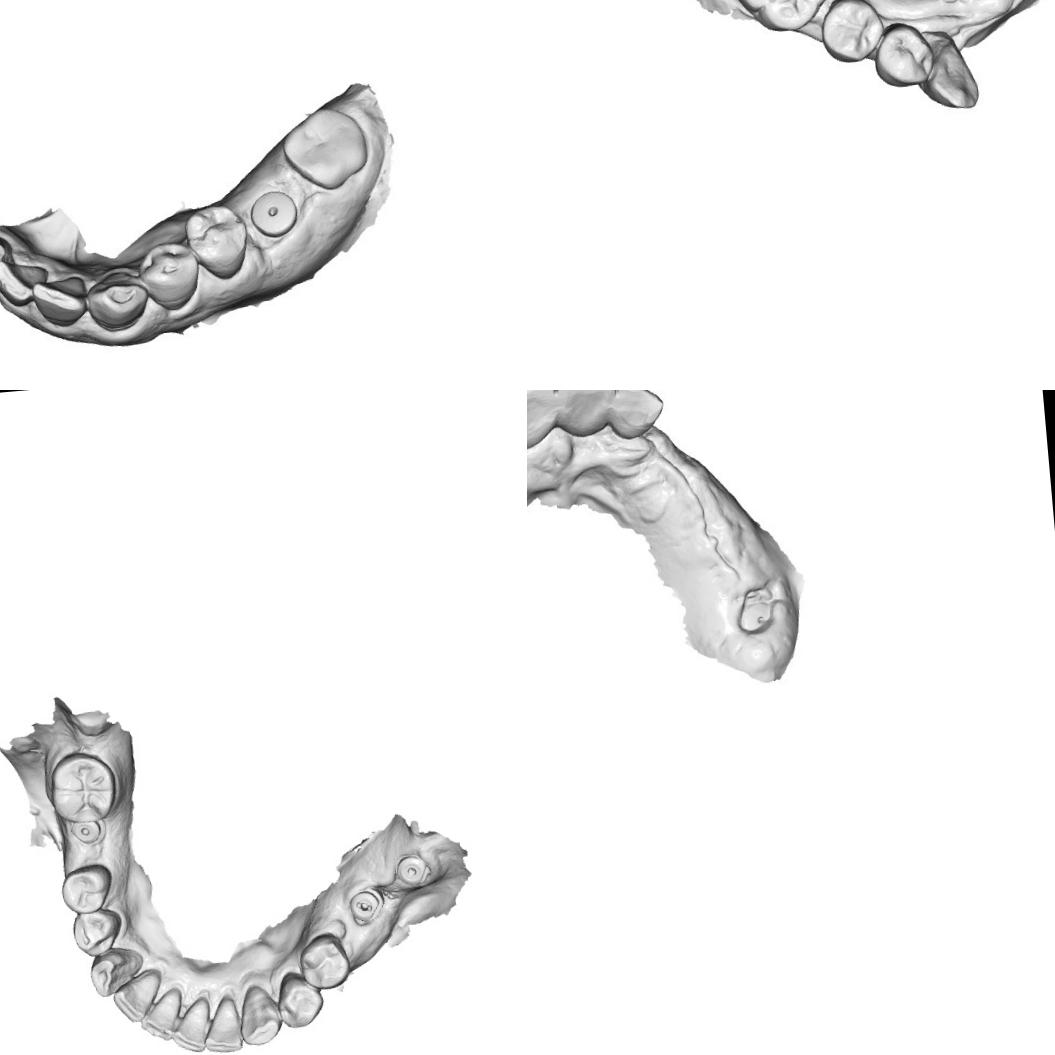canine: (917, 36, 982, 114), (86, 268, 154, 335), (86, 942, 149, 999), (236, 982, 282, 1048)
implant: (250, 186, 299, 238), (392, 852, 432, 891), (65, 816, 107, 848)
implant_minus: (344, 886, 387, 925)
incisor: (550, 390, 621, 439), (32, 270, 94, 326), (108, 968, 166, 1024), (166, 994, 213, 1055), (136, 986, 185, 1044), (612, 390, 667, 440), (199, 994, 244, 1055), (0, 253, 48, 305), (527, 390, 562, 447), (0, 226, 11, 278)
molar: (276, 99, 373, 196), (44, 746, 121, 826), (727, 0, 837, 36)
premolar: (868, 16, 936, 90), (817, 0, 888, 66), (140, 242, 202, 308), (190, 207, 249, 275), (294, 932, 352, 992), (56, 860, 115, 916), (274, 968, 326, 1030), (69, 906, 125, 958)
